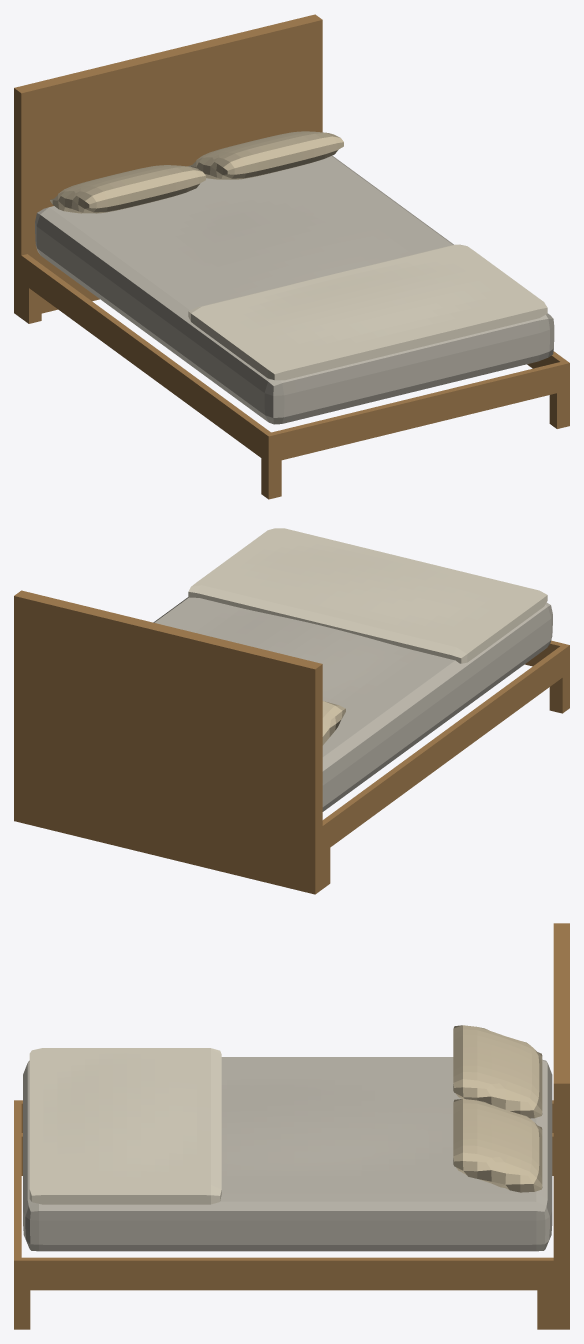
Rendered from HIN-BED-double.glb.
The picture shows the model from 3 angles, top to bottom: view 1: azimuth 30°, elevation 25°; view 2: azimuth 150°, elevation 25°; view 3: azimuth 270°, elevation 25°; orthographic projection. The views are drawn at different scales.
Parts seen in each view (by area): view 1: mattress:pbr, head:pbr, throw:pbr, foot:pbr, rail-l:pbr, pillow-l:pbr, pillow-r:pbr, leg-fl:pbr, leg-fr:pbr, leg-hl:pbr; view 2: head:pbr, throw:pbr, mattress:pbr, rail-l:pbr, leg-fl:pbr, pillow-l:pbr; view 3: mattress:pbr, throw:pbr, rail-r:pbr, head:pbr, pillow-r:pbr, pillow-l:pbr, foot:pbr, leg-hr:pbr, leg-fr:pbr.
Boxes of the visible parts, bbox=[...] form: mattress:pbr: bbox=[35, 155, 554, 424]; head:pbr: bbox=[14, 14, 322, 317]; throw:pbr: bbox=[188, 244, 547, 380]; foot:pbr: bbox=[271, 362, 563, 461]; rail-l:pbr: bbox=[21, 254, 274, 463]; pillow-l:pbr: bbox=[50, 165, 205, 213]; pillow-r:pbr: bbox=[188, 131, 343, 179]; leg-fl:pbr: bbox=[261, 458, 281, 499]; leg-fr:pbr: bbox=[549, 390, 569, 428]; leg-hl:pbr: bbox=[21, 283, 41, 323]; head:pbr: bbox=[14, 590, 322, 894]; throw:pbr: bbox=[188, 528, 547, 663]; mattress:pbr: bbox=[153, 597, 552, 811]; rail-l:pbr: bbox=[322, 643, 569, 852]; leg-fl:pbr: bbox=[549, 672, 569, 713]; pillow-l:pbr: bbox=[322, 701, 345, 745]; mattress:pbr: bbox=[23, 1057, 552, 1251]; throw:pbr: bbox=[29, 1048, 221, 1204]; rail-r:pbr: bbox=[14, 1257, 553, 1290]; head:pbr: bbox=[553, 923, 569, 1329]; pillow-r:pbr: bbox=[453, 1099, 542, 1192]; pillow-l:pbr: bbox=[453, 1025, 542, 1118]; foot:pbr: bbox=[14, 1103, 21, 1257]; leg-hr:pbr: bbox=[537, 1290, 553, 1329]; leg-fr:pbr: bbox=[14, 1290, 30, 1329].
Bounding box in the file's own units: 1.4 × 1 × 2.05.
